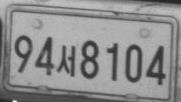0: (124, 43, 143, 83)
1: (104, 42, 123, 81)
4: (33, 36, 55, 76), (145, 45, 166, 86)
8: (79, 39, 100, 79)
9: (13, 34, 34, 73)
서: (56, 44, 76, 77)
